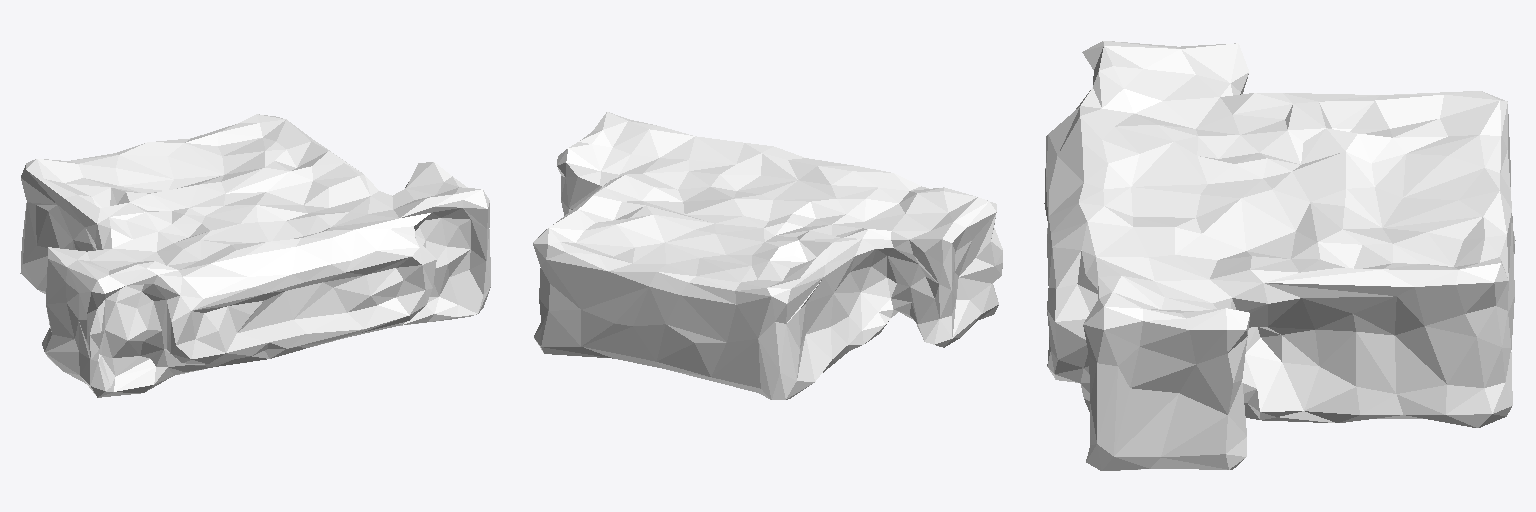
The robot description file, URDF, robot "atb1_conn-dsub":
<?xml version="0.0" ?>
<robot name="atb1_conn-dsub">
  <link name="baseLink">
    <contact>
      <friction_anchor/>
      <lateral_friction value="0.8"/>
      <spinning_friction value="0.001"/>
      <rolling_friction value="0.001"/>
      <contact_cfm value="0.0"/>
      <contact_erp value="0.2"/>
    </contact>
    <inertial>
       <origin rpy="0 0 0" xyz="0 0 0"/>
       <mass value="0.01"/>
       <inertia ixx="1e-3" ixy="0" ixz="0" iyy="1e-3" iyz="0" izz="1e-3"/>
    </inertial>
    <visual>
      <origin rpy="0 0 0" xyz="0 0 0"/>
      <geometry>
        <mesh filename="obj/fused_model.obj" scale="1 1 1"/>
      </geometry>
      <material name="white">
        <color rgba="1. 1. 1. 1."/>
      </material>
    </visual>
    <collision>
      <origin rpy="0 0 0" xyz="0 0 0"/>
      <geometry>
        <mesh filename="obj/fused_model.obj" scale="1 1 1"/>
      </geometry>
    </collision>
  </link>
</robot>

--- Render facts (derived) ---
Views: 3 orthographic renders of the robot side by side, from view 1: azimuth 30°, elevation 25°; view 2: azimuth 150°, elevation 25°; view 3: azimuth 270°, elevation 25°.
Robot: atb1_conn-dsub — 1 links, 0 joints (none); root link baseLink; default pose: all joints at 0.
Visible links, largest first — view 1: baseLink; view 2: baseLink; view 3: baseLink.
Link boxes in pixels (<box>): baseLink: <box>20,114,490,397</box>; baseLink: <box>533,112,1002,399</box>; baseLink: <box>1044,41,1515,470</box>.
Bounding box of the posed robot: 0.0589 × 0.0428 × 0.0181 m (x, y, z).
1 mesh visuals loaded from 1 distinct referenced files (1 OBJ).
